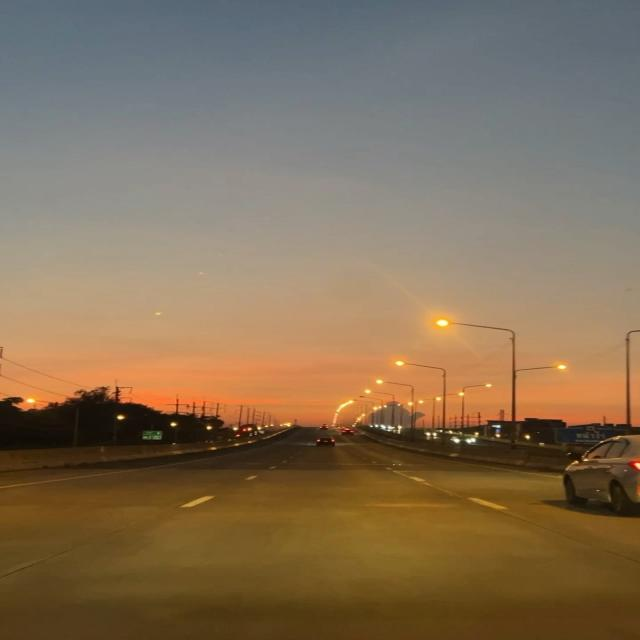Poth-hole: (142, 467, 518, 607)
